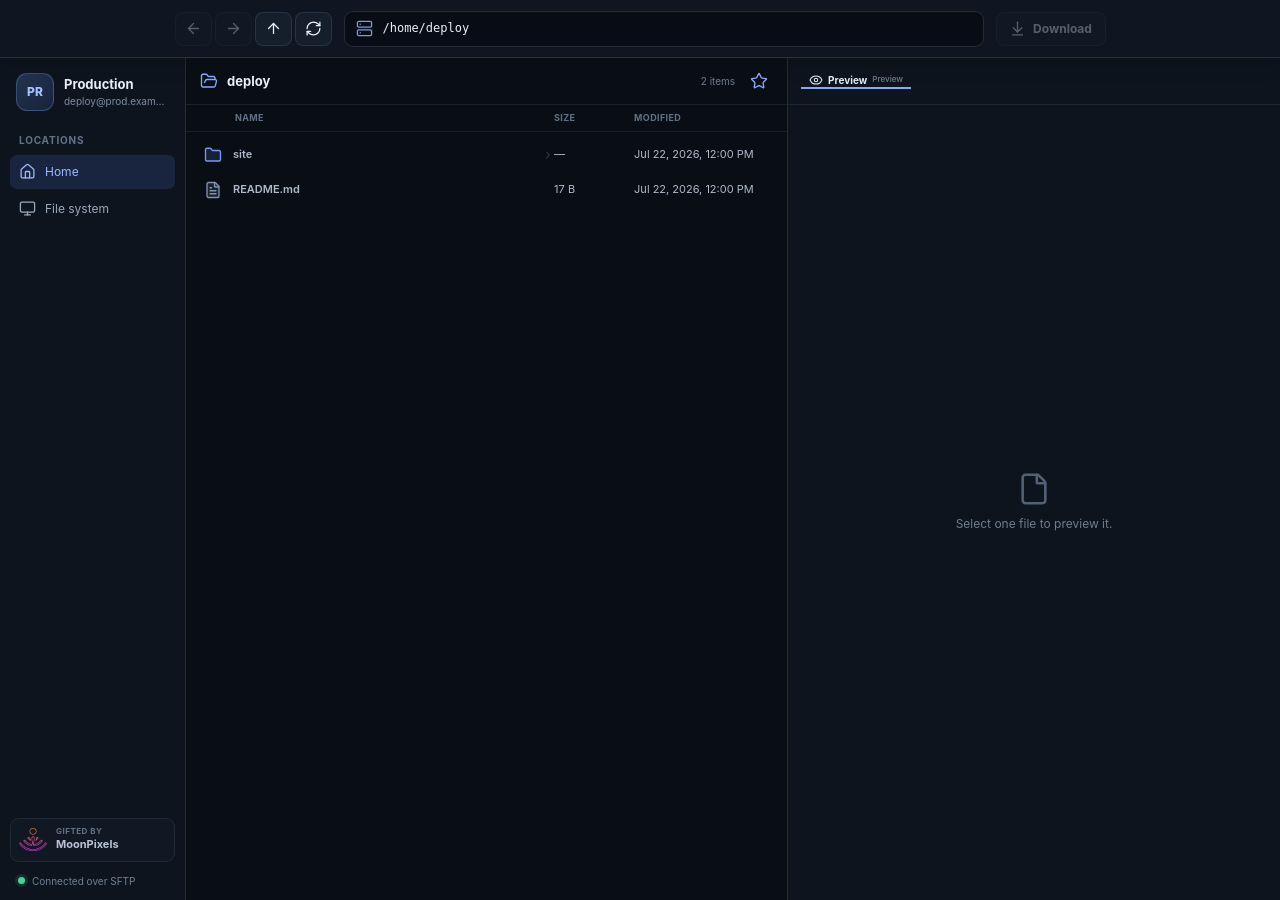
Test: server explorer window › downloads the selected remote file through the native destination flow
Click the option "README.md 17 B Jul 22, 2026, 12:00 PM". click: point(266, 189)
box: left=204, top=180, right=754, bottom=198
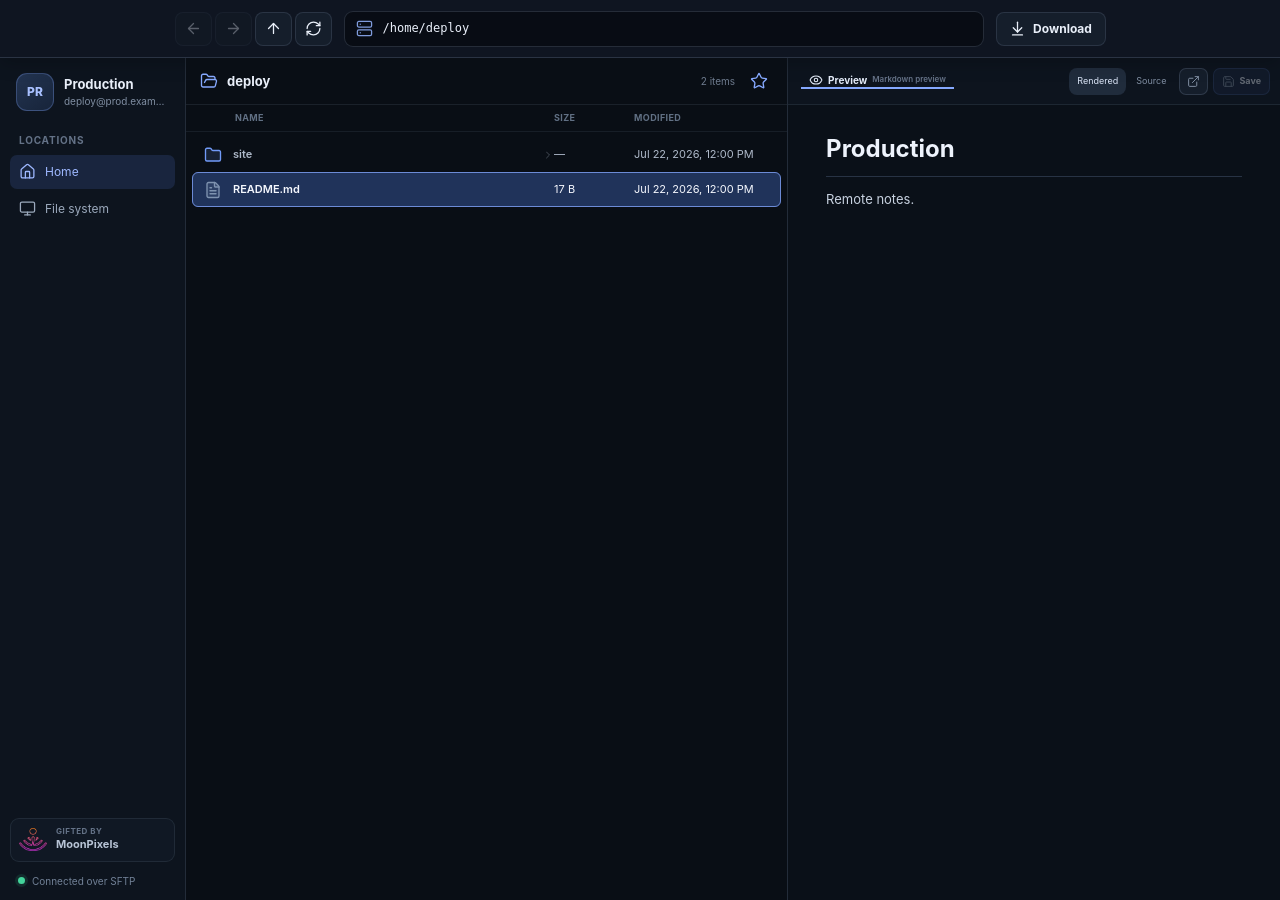
Click the button "Download". click: point(1050, 28)
box: left=996, top=12, right=1106, bottom=46
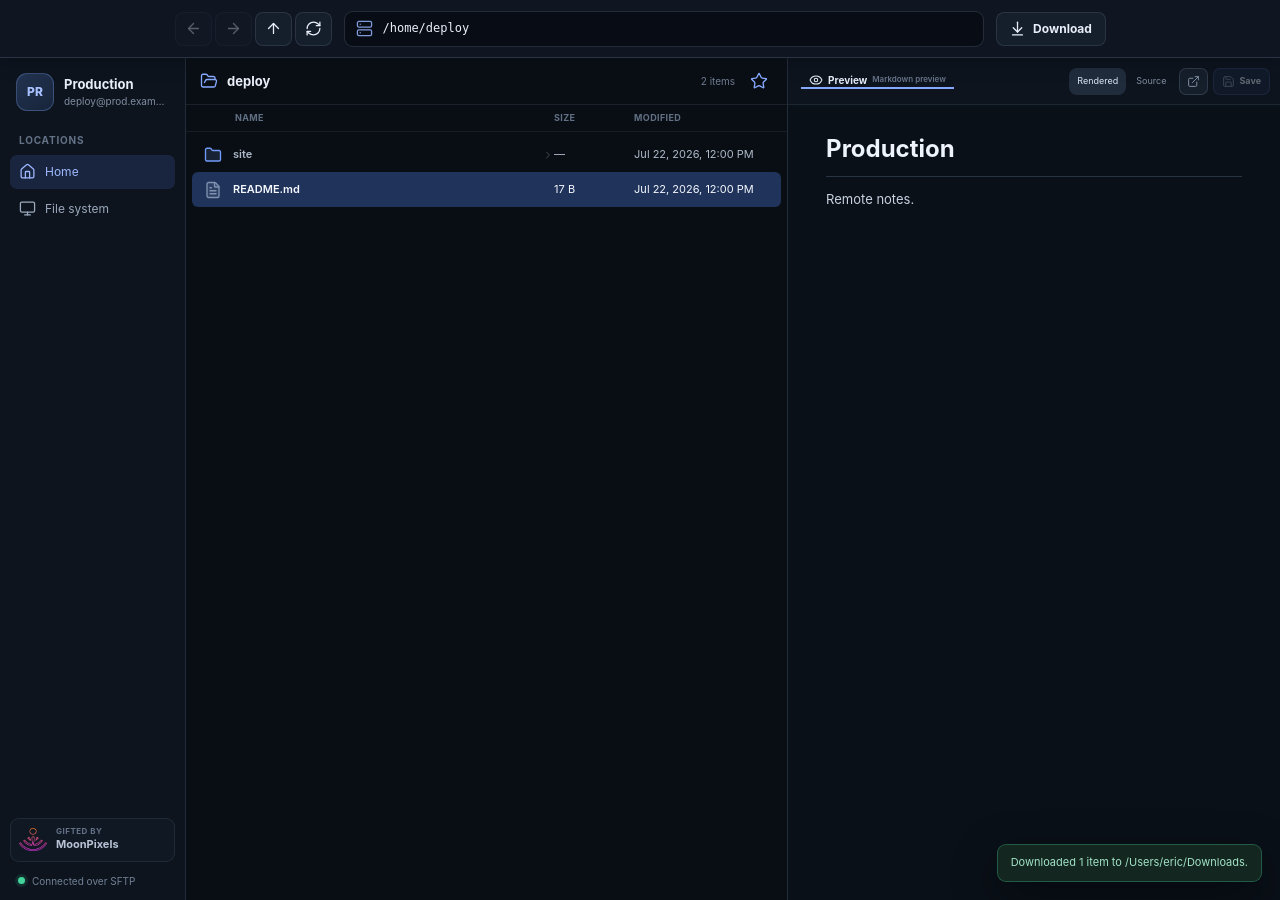
Now the text "Downloaded 1 item to /Users/eric/Downloads." is shown, box left=997, top=844, right=1262, bottom=882
